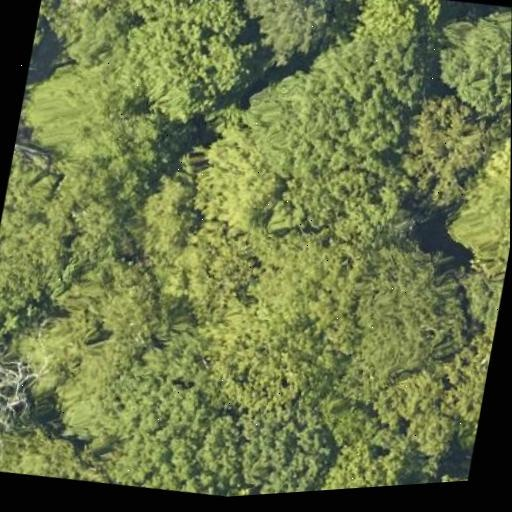tree-top: (252, 0, 443, 225), (98, 334, 245, 503), (335, 224, 473, 396), (109, 0, 256, 136), (13, 46, 155, 172), (192, 292, 322, 418), (48, 325, 172, 453), (0, 139, 83, 329), (201, 377, 327, 498), (385, 81, 495, 210), (178, 114, 289, 234), (242, 218, 348, 332), (433, 126, 511, 264), (73, 248, 178, 350), (428, 0, 512, 124), (231, 0, 343, 74), (124, 164, 205, 265), (434, 323, 494, 452), (175, 214, 254, 311), (318, 415, 414, 491), (56, 193, 137, 279), (0, 407, 89, 485), (396, 393, 464, 468), (0, 328, 40, 443), (364, 0, 450, 51), (40, 0, 144, 19), (429, 466, 468, 483)
